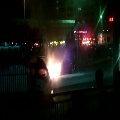fire: (47, 58, 61, 78)
